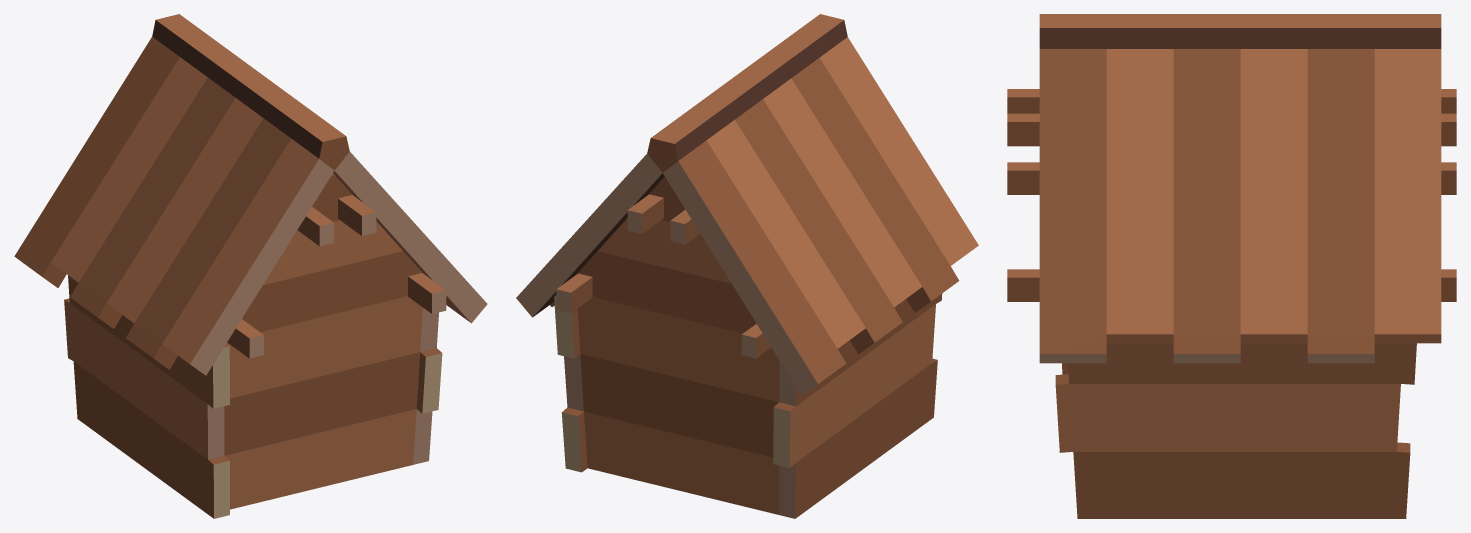
File: TB_Bd_WoodRoom_Small.FBX
The picture shows the model from 3 angles, left to right: view 1: azimuth 30°, elevation 25°; view 2: azimuth 150°, elevation 25°; view 3: azimuth 270°, elevation 25°; orthographic projection. The views are drawn at different scales.
Visible parts, largest first — view 1: TB_Bd_WoodRoom_Small; view 2: TB_Bd_WoodRoom_Small; view 3: TB_Bd_WoodRoom_Small.
Part boxes in pixels (x1,y1,x2,y2): TB_Bd_WoodRoom_Small: [14, 14, 487, 518]; TB_Bd_WoodRoom_Small: [516, 14, 978, 518]; TB_Bd_WoodRoom_Small: [1007, 14, 1456, 518].
Bounding box in the file's own units: 3.48 × 3.91 × 3.67.
